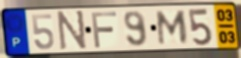5: (187, 7, 215, 46), (30, 13, 56, 51)
9: (122, 9, 149, 48)
F: (90, 10, 119, 49)
M: (156, 9, 190, 46)
N: (57, 9, 88, 52)
